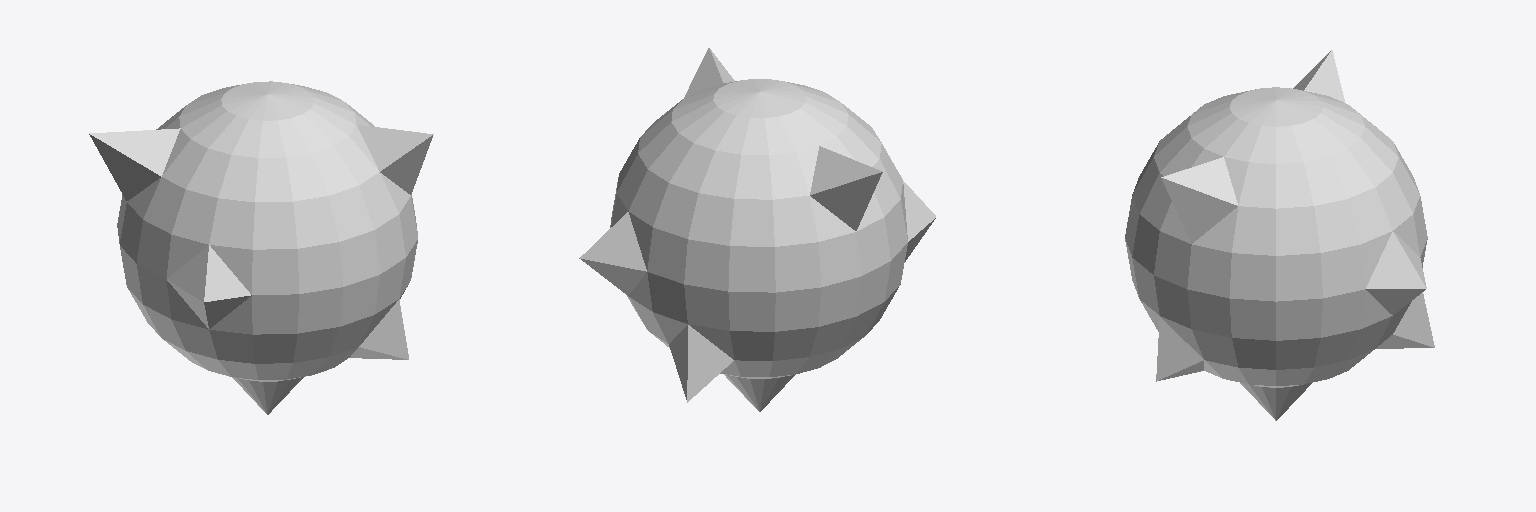
File: bahamut_bless_1.obj
3 renders of one model, left to right at view 1: azimuth 30°, elevation 25°; view 2: azimuth 150°, elevation 25°; view 3: azimuth 270°, elevation 25°, orthographic.
Bounding box in the file's own units: 1 × 1.09 × 0.955.